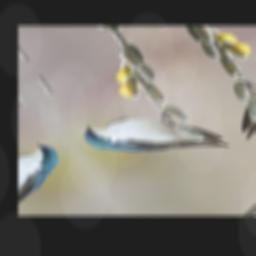Swallow: (76, 87, 232, 187)
